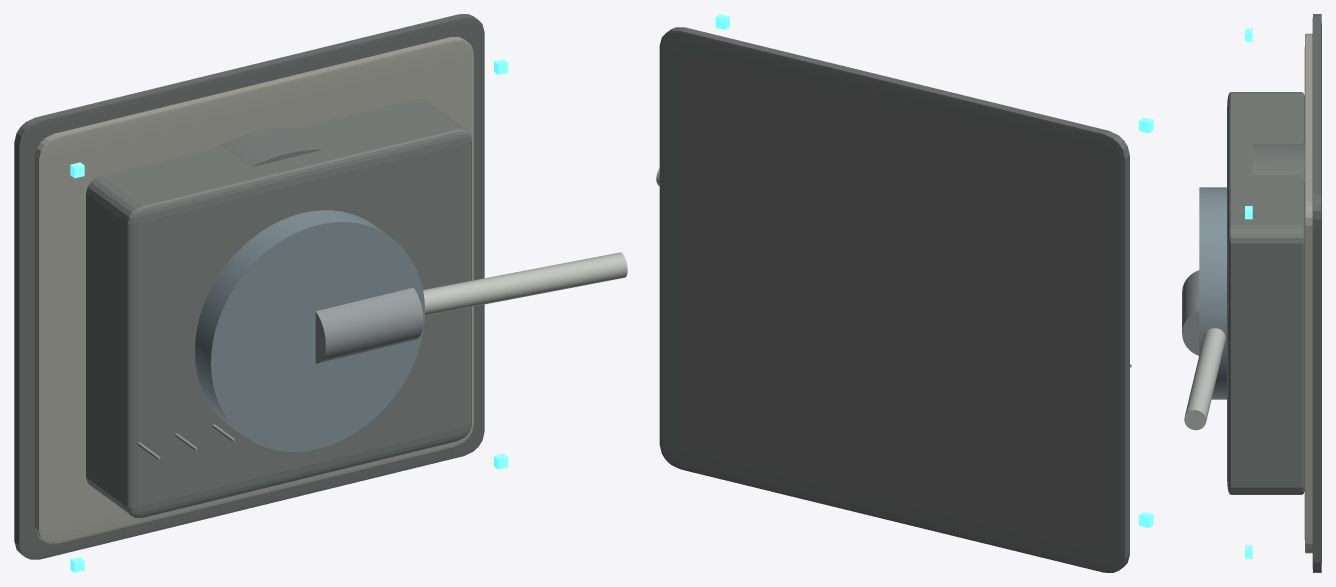
The model's file is b-30-cannon-turret-lod2.glb.
3 renders of one model, left to right at view 1: azimuth 30°, elevation 25°; view 2: azimuth 150°, elevation 25°; view 3: azimuth 270°, elevation 25°, orthographic. The views are drawn at different scales.
Parts seen in each view (by area): view 1: primary_hex_bunker, foundation_inner_pad, primary_turret_yaw, foundation, recoil_sleeve, heavy_cannon_barrel_0, turret_base; view 2: foundation; view 3: primary_hex_bunker, foundation, foundation_inner_pad, primary_turret_yaw, heavy_cannon_barrel_0, turret_base, recoil_sleeve.
Part boxes in pixels (x1=…): primary_hex_bunker: x1=86, y1=99, x2=471, y2=517; foundation_inner_pad: x1=34, y1=37, x2=473, y2=543; primary_turret_yaw: x1=195, y1=210, x2=424, y2=451; foundation: x1=14, y1=14, x2=484, y2=559; recoil_sleeve: x1=315, y1=287, x2=423, y2=363; heavy_cannon_barrel_0: x1=423, y1=252, x2=627, y2=315; turret_base: x1=215, y1=127, x2=323, y2=167; foundation: x1=659, y1=27, x2=1129, y2=572; primary_hex_bunker: x1=1227, y1=92, x2=1304, y2=494; foundation: x1=1312, y1=14, x2=1321, y2=572; foundation_inner_pad: x1=1304, y1=33, x2=1312, y2=553; primary_turret_yaw: x1=1199, y1=187, x2=1226, y2=399; heavy_cannon_barrel_0: x1=1184, y1=328, x2=1225, y2=430; turret_base: x1=1252, y1=142, x2=1304, y2=182; recoil_sleeve: x1=1182, y1=270, x2=1199, y2=355.
Size of what is drawn, in the model's own units: 11.51 by 9 by 3.03.
